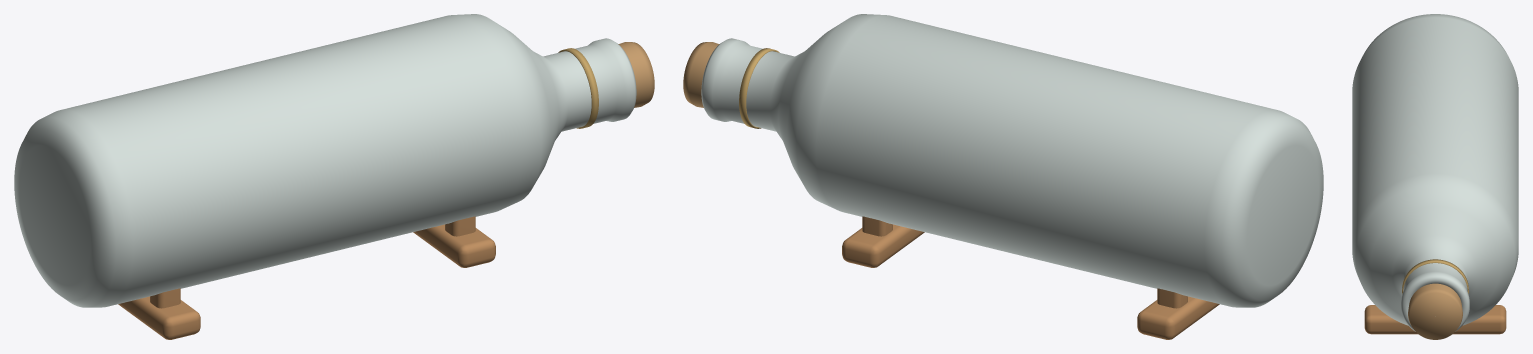
The model's file is sailboat-bottle-v6.fbx.
The picture shows the model from 3 angles, left to right: view 1: azimuth 30°, elevation 25°; view 2: azimuth 150°, elevation 25°; view 3: azimuth 270°, elevation 25°; orthographic projection. The views are drawn at different scales.
Parts seen in each view (by area): view 1: Bottle | thick transparent glass, Cradle | timber foot.001, Cradle | timber foot, Bottle | cork stopper, Bottle | neck brass collar; view 2: Bottle | thick transparent glass, Cradle | timber foot.001, Cradle | timber foot, Bottle | cork stopper, Bottle | neck brass collar; view 3: Bottle | thick transparent glass, Bottle | cork stopper, Cradle | timber foot.001, Bottle | neck brass collar.
Boxes of the visible parts, x1=… form: Bottle | thick transparent glass: x1=14, y1=14, x2=636, y2=307; Cradle | timber foot.001: x1=413, y1=224, x2=495, y2=267; Cradle | timber foot: x1=118, y1=296, x2=200, y2=339; Bottle | cork stopper: x1=618, y1=42, x2=654, y2=107; Bottle | neck brass collar: x1=558, y1=48, x2=598, y2=128; Bottle | thick transparent glass: x1=701, y1=14, x2=1323, y2=307; Cradle | timber foot.001: x1=842, y1=224, x2=924, y2=267; Cradle | timber foot: x1=1137, y1=296, x2=1219, y2=339; Bottle | cork stopper: x1=683, y1=42, x2=719, y2=107; Bottle | neck brass collar: x1=739, y1=48, x2=779, y2=128; Bottle | thick transparent glass: x1=1352, y1=14, x2=1518, y2=331; Bottle | cork stopper: x1=1408, y1=283, x2=1462, y2=339; Cradle | timber foot.001: x1=1364, y1=305, x2=1506, y2=334; Bottle | neck brass collar: x1=1402, y1=259, x2=1468, y2=293.
Size of the model in its own units: 188 by 63.2 by 56.4.
